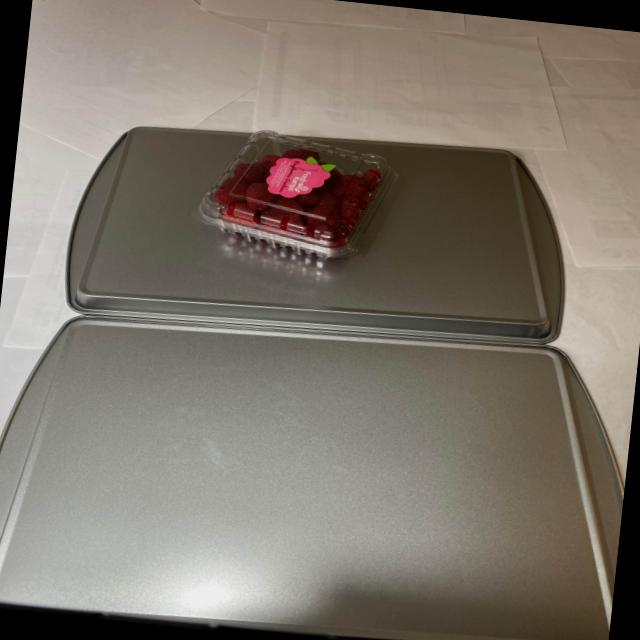raspberries: (206, 142, 378, 262)
